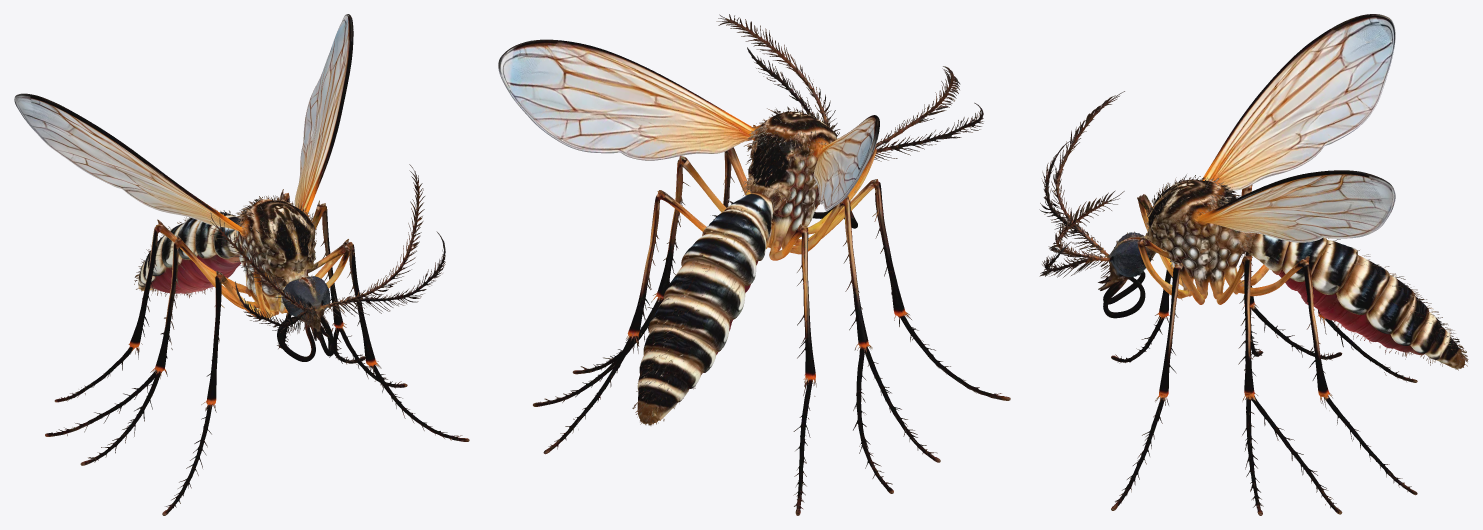
File: mosquito_3d_model_free.glb
The picture shows the model from 3 angles, left to right: view 1: azimuth 30°, elevation 25°; view 2: azimuth 150°, elevation 25°; view 3: azimuth 270°, elevation 25°; orthographic projection. The views are drawn at different scales.
Visible parts, largest first — view 1: Object_5; view 2: Object_5; view 3: Object_5.
Boxes of the visible parts, x1=… form: Object_5: x1=14, y1=14, x2=469, y2=515; Object_5: x1=498, y1=14, x2=1010, y2=515; Object_5: x1=1039, y1=14, x2=1468, y2=515.
Bounding box in the file's own units: 1.74 × 1.68 × 1.9.
Materials: 1 (1 with a texture image).
